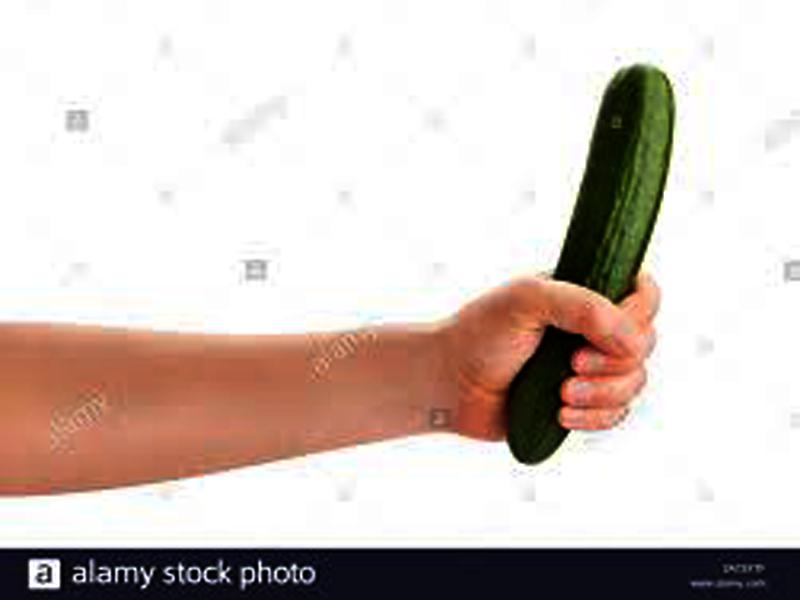Cucumber: (510, 66, 676, 463)
